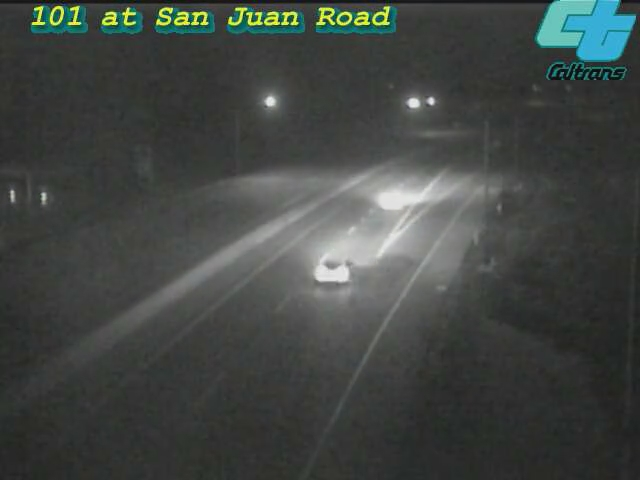vehicle: (348, 164, 428, 244), (291, 232, 371, 312)
